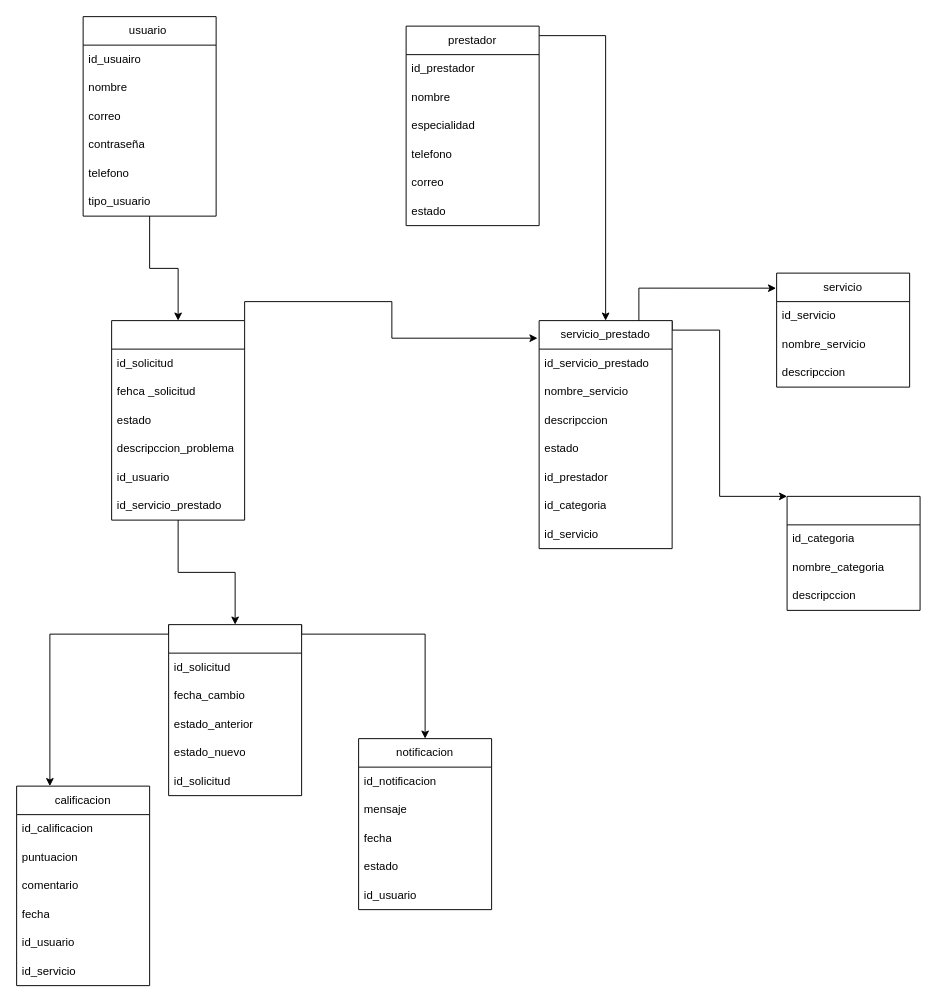
Some shapes in this 937 by 1002 pixel diagram are drawn without their labels. Each missing label, with the box of its shape:
categoria_servicio: (786, 495, 920, 610)
historial_solicitud: (168, 624, 302, 796)
solicitud_servicio: (111, 320, 245, 520)
